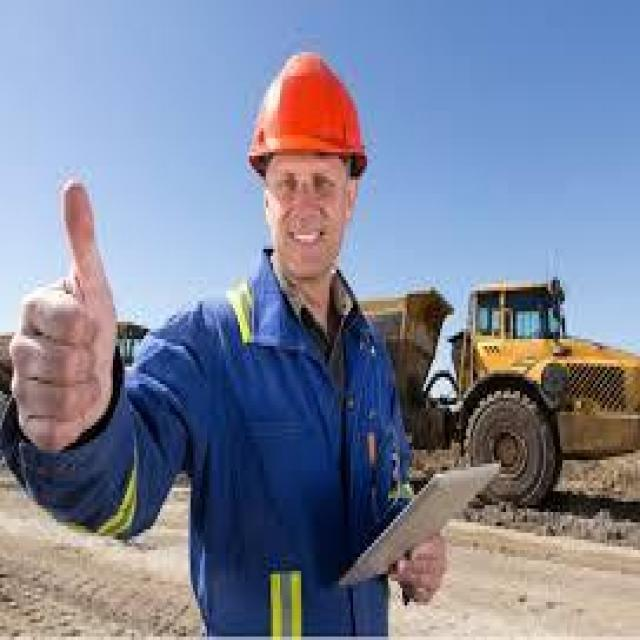Safety-Helmet: (242, 45, 372, 183)
